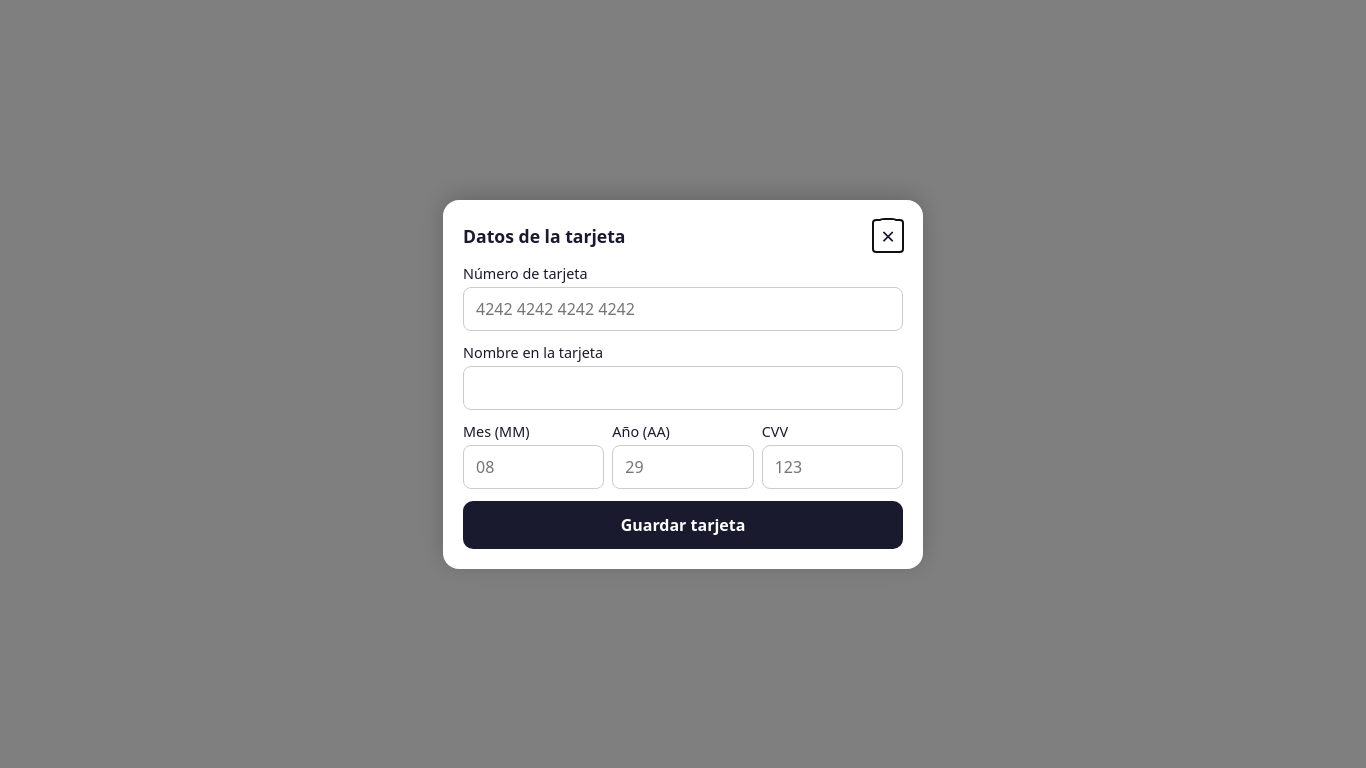
Test: CardModal › shows validation errors when submitting incomplete data
Click the button "Guardar tarjeta". click: (683, 524)
box: top-left (463, 500), bottom-right (903, 548)
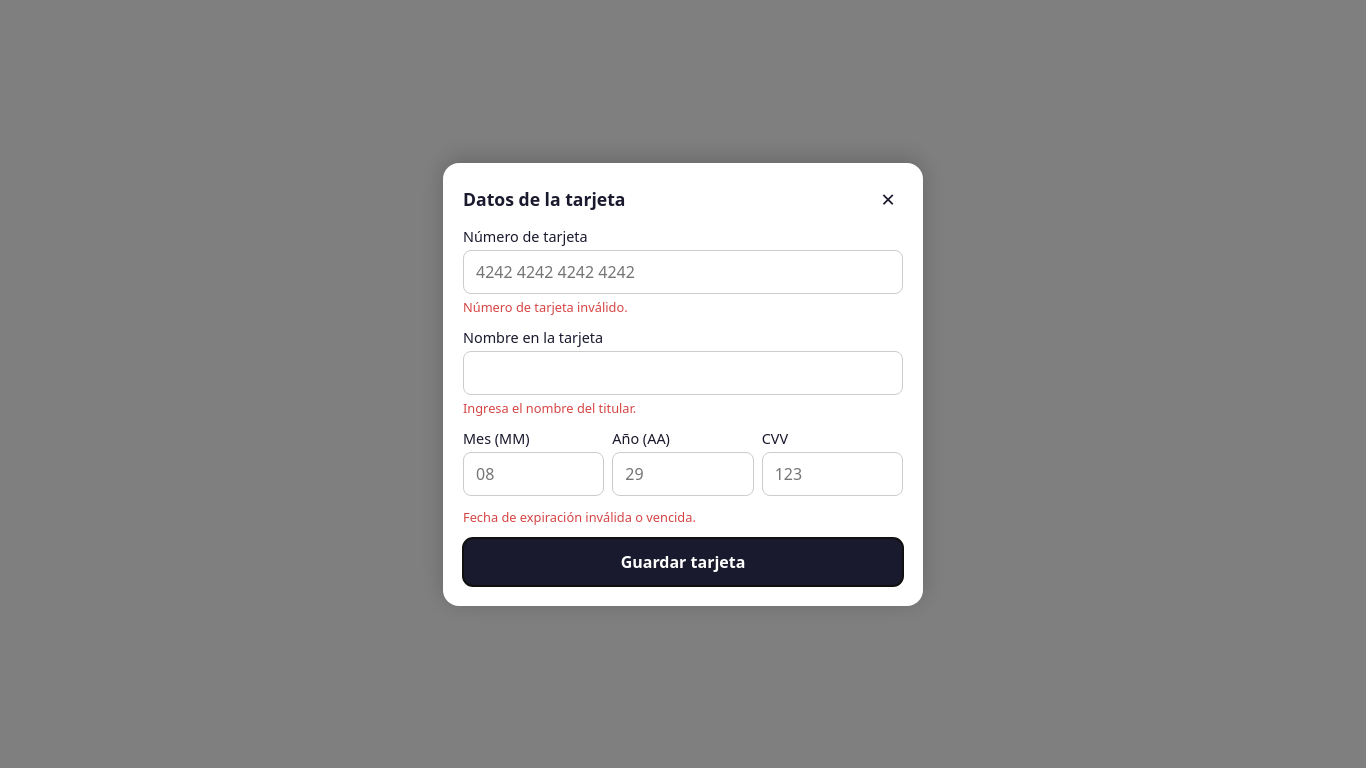
Expected: the text "Número de tarjeta inválido." is shown, top-left (463, 298), bottom-right (628, 316)
Expected: the text "Ingresa el nombre del titular." is shown, top-left (463, 398), bottom-right (636, 416)
